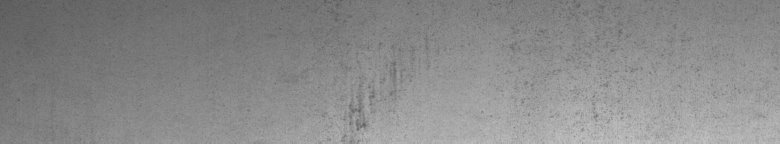ib: (511, 29, 643, 123)
